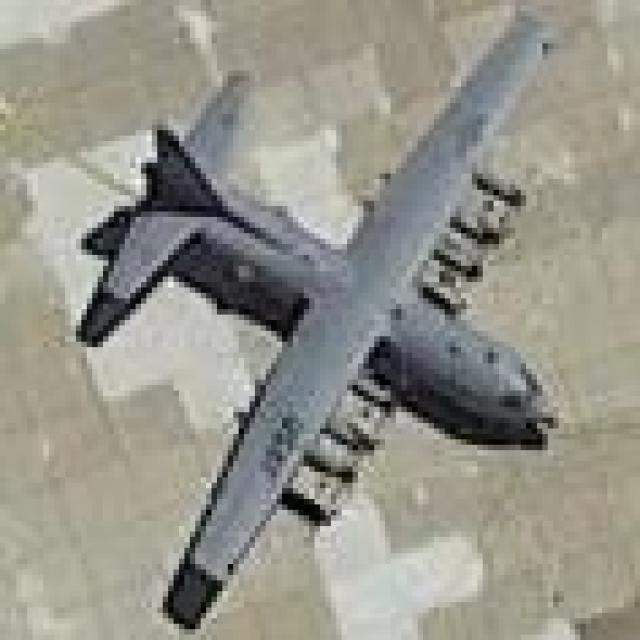C-130_TopDown: (61, 0, 562, 636)
